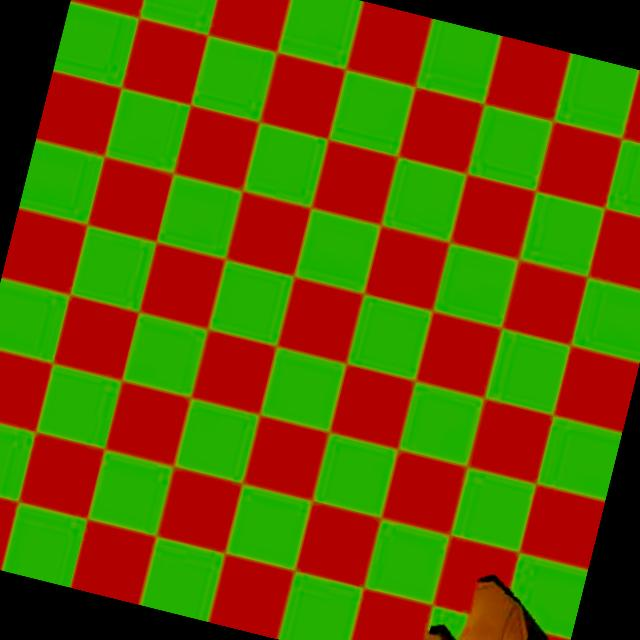Person: (408, 552, 582, 640)
